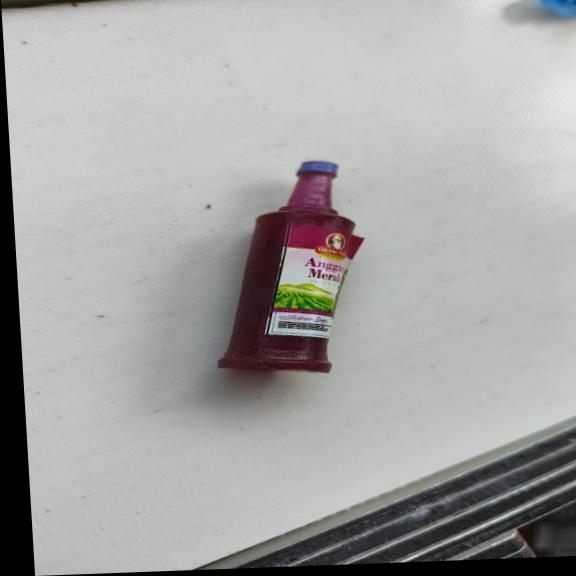Plastik: (204, 159, 368, 380)
